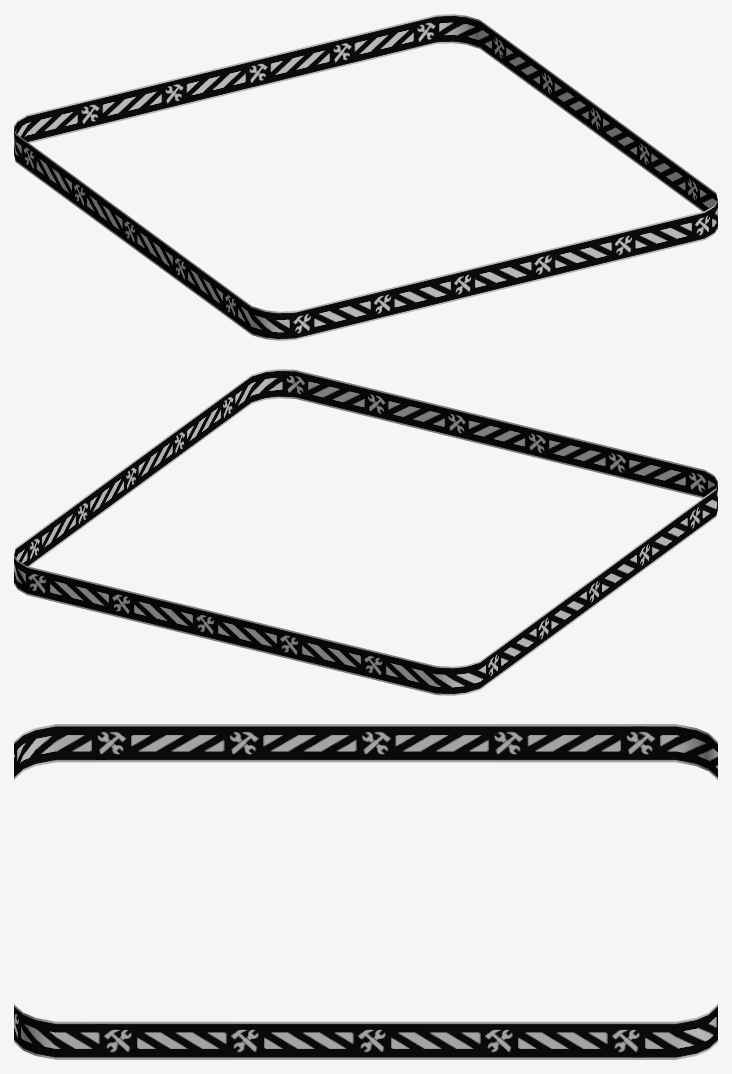
Rendered from hologram_buildzone_geo.fbx.
3 renders of one model, top to bottom at view 1: azimuth 30°, elevation 25°; view 2: azimuth 150°, elevation 25°; view 3: azimuth 270°, elevation 25°, orthographic. The views are drawn at different scales.
Visible parts, largest first — view 1: old10; view 2: old10; view 3: old10.
Boxes of the visible parts, <box> form: old10: <box>14,14,717,340</box>; old10: <box>14,369,717,695</box>; old10: <box>14,724,717,1059</box>.
Bounding box in the file's own units: 0.1109 × 0.00664 × 0.1109.
Materials: 1 (1 with a texture image).
